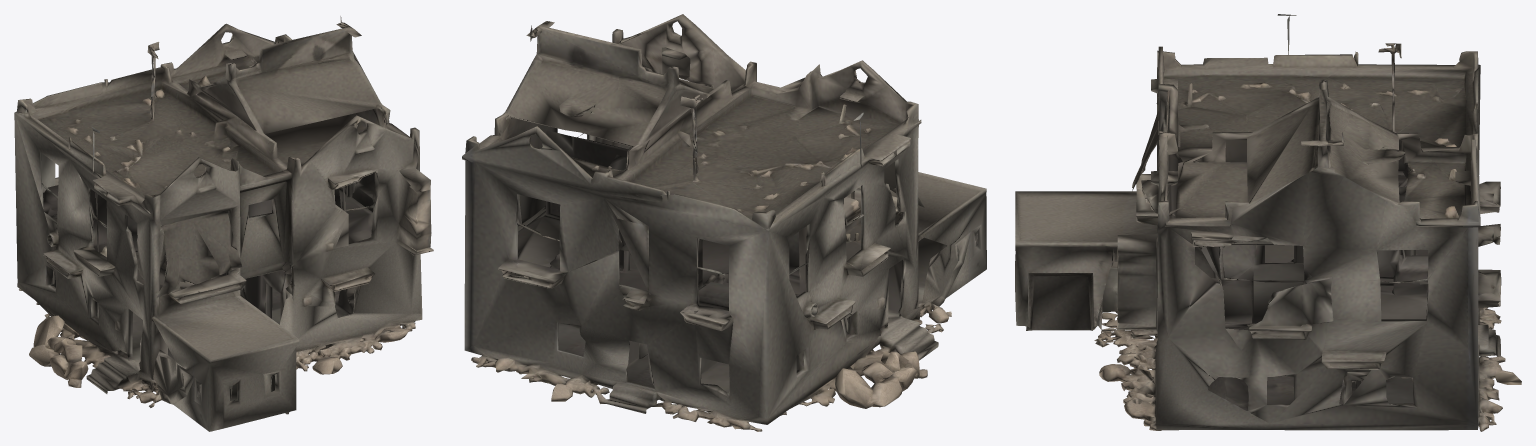
File: batiment-abandonne-debris.glb
3 renders of one model, left to right at view 1: azimuth 30°, elevation 25°; view 2: azimuth 150°, elevation 25°; view 3: azimuth 270°, elevation 25°, orthographic. The views are drawn at different scales.
Visible parts, largest first — view 1: Mesh_0.001; view 2: Mesh_0.001; view 3: Mesh_0.001.
Part boxes in pixels (box(x1,y1,x2,y2)): Mesh_0.001: box(14, 16, 433, 431); Mesh_0.001: box(462, 14, 986, 431); Mesh_0.001: box(1015, 14, 1521, 431).
Size of the model in its own units: 10.27 by 8 by 11.45.
Materials: 1 (1 with a texture image).
